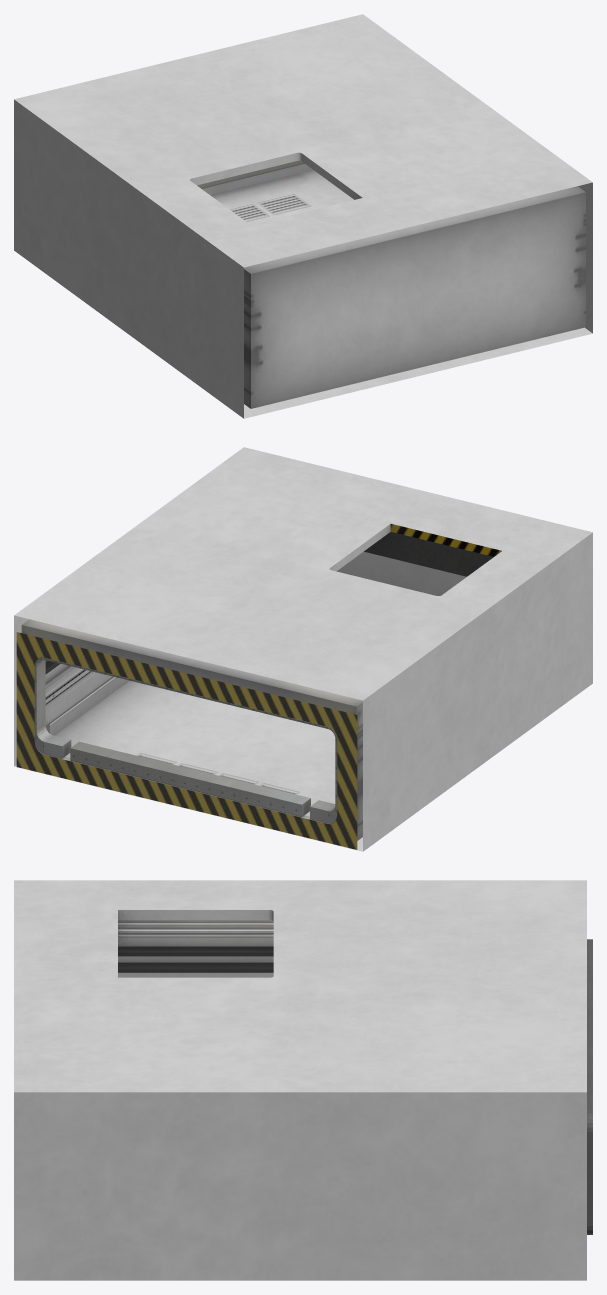
File: ME1AVCage.fbx
3 renders of one model, top to bottom at view 1: azimuth 30°, elevation 25°; view 2: azimuth 150°, elevation 25°; view 3: azimuth 270°, elevation 25°, orthographic. The views are drawn at different scales.
Parts seen in each view (by area): view 1: ShapeIndexedFaceSet; view 2: ShapeIndexedFaceSet; view 3: ShapeIndexedFaceSet.
Part boxes in pixels (x1,y1,x2,y2): ShapeIndexedFaceSet: [14, 14, 592, 418]; ShapeIndexedFaceSet: [14, 447, 592, 851]; ShapeIndexedFaceSet: [14, 880, 592, 1280].
Bounding box in the file's own units: 6.76 × 2.8 × 7.8.
